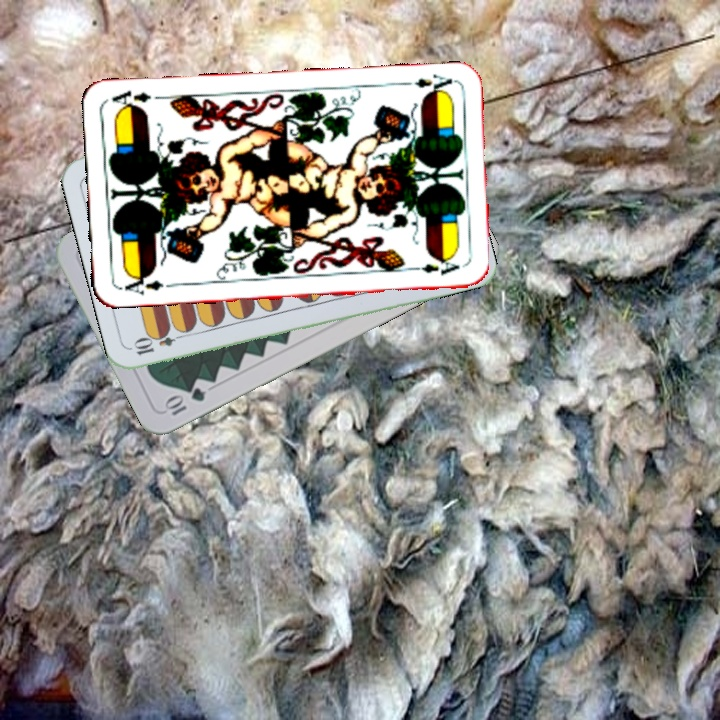E10: (130, 328, 189, 358)
EA: (397, 70, 456, 97), (121, 270, 166, 298)
G10: (160, 383, 208, 419)
